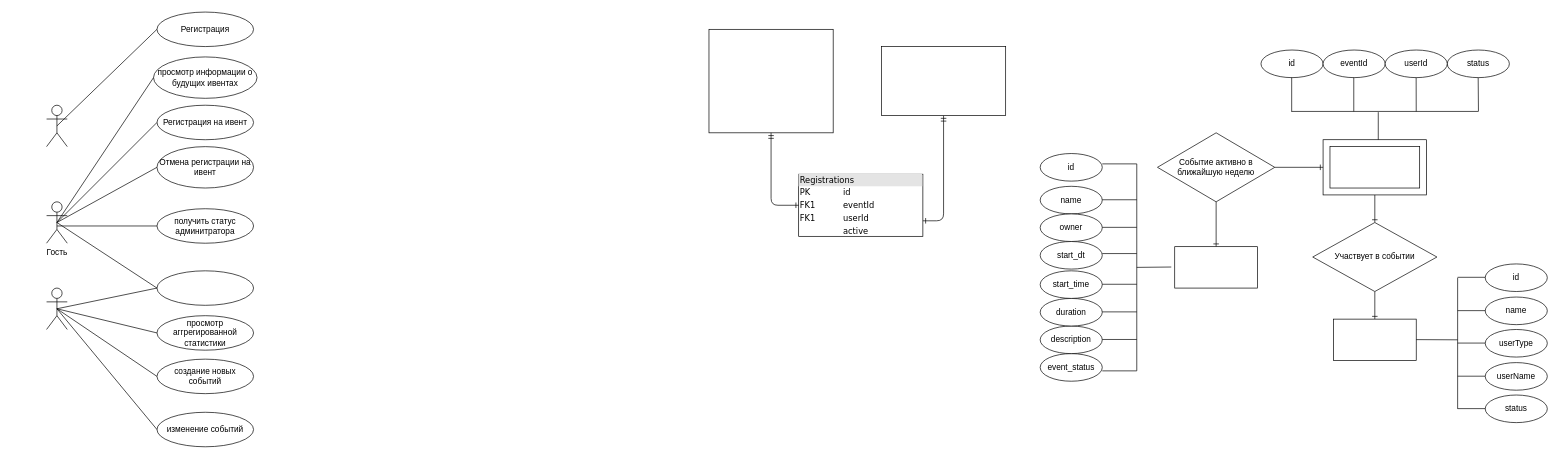
The diagram is 1559 pixels wide and 459 high, and some of its shapes have lost their labels. Here are the shapes that lost their labels. From the top down, the box of each, then its label:
(708, 29, 833, 133): Events PK id name owner start_dt start_time duration description event_status
(881, 46, 1006, 116): Users PK id name userType userName status
(46, 105, 67, 147): Незарегестрированный пользователь
(1322, 139, 1427, 195): Registration
(1174, 246, 1258, 288): Event
(156, 270, 254, 305): изменение личной информации
(46, 287, 67, 329): Администратор
(1333, 318, 1416, 361): User
